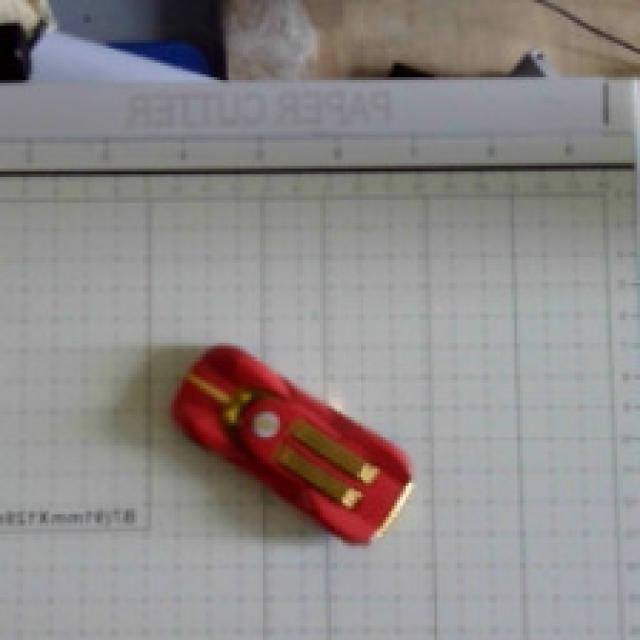Red Car: (147, 296, 452, 572)
